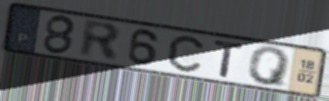6: (127, 28, 161, 68)
8: (41, 14, 76, 56)
C: (167, 35, 206, 74)
Q: (247, 47, 293, 89)
R: (78, 18, 123, 64)
T: (212, 39, 247, 80)
